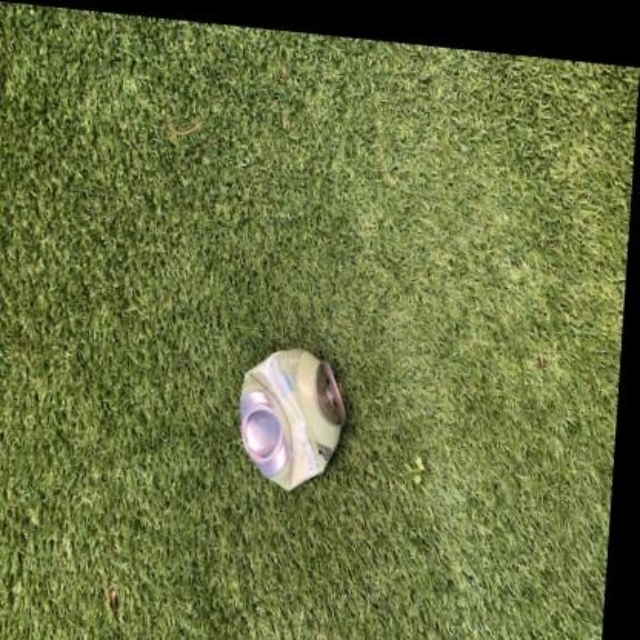trash: (240, 349, 343, 489)
